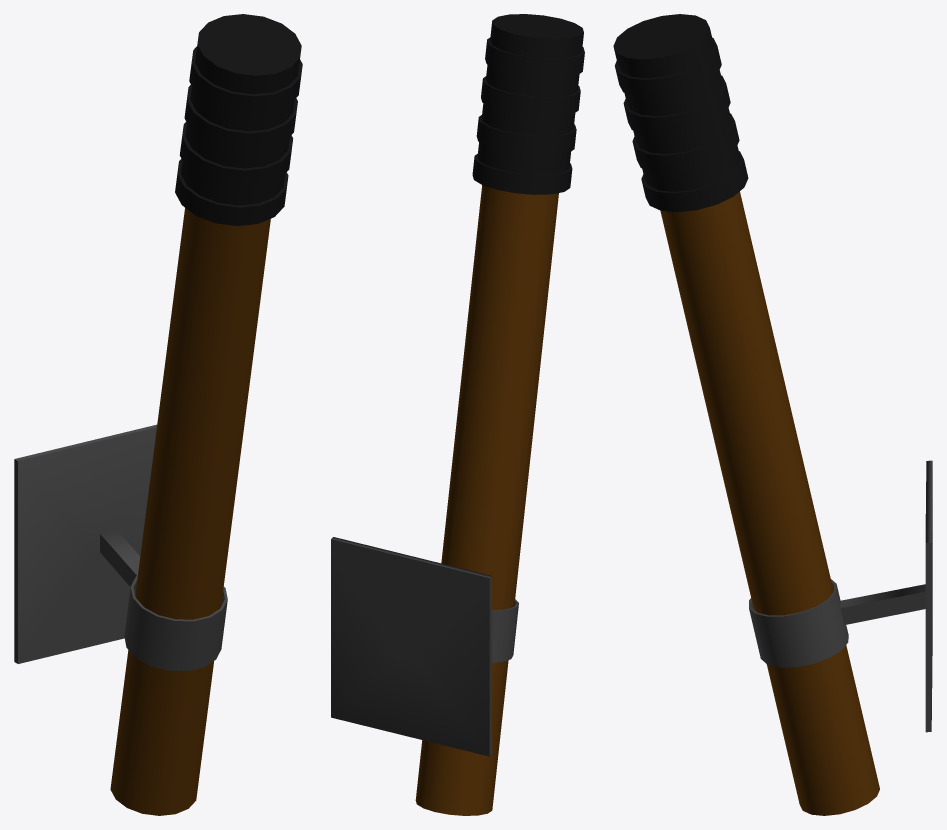
File: Torch.fbx
3 renders of one model, left to right at view 1: azimuth 30°, elevation 25°; view 2: azimuth 150°, elevation 25°; view 3: azimuth 270°, elevation 25°, orthographic. The views are drawn at different scales.
Visible parts, largest first — view 1: Torch; view 2: Torch; view 3: Torch.
Part boxes in pixels (x1,y1,x2,y2): Torch: [14, 14, 302, 815]; Torch: [331, 14, 584, 815]; Torch: [613, 14, 932, 815].
Size of the model in its own units: 11.39 by 50.04 by 18.62.
